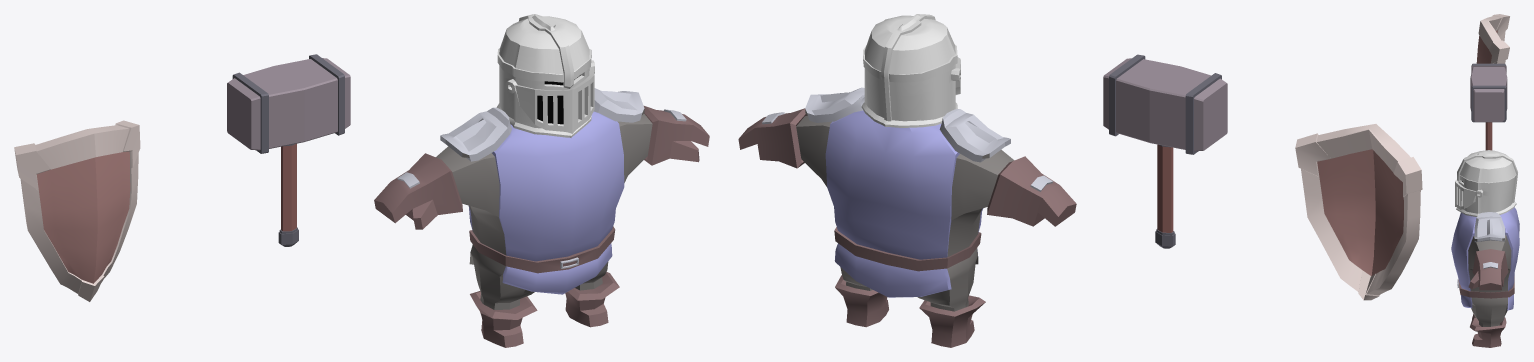
Rendered from player-assets.fbx.
The picture shows the model from 3 angles, left to right: view 1: azimuth 30°, elevation 25°; view 2: azimuth 150°, elevation 25°; view 3: azimuth 270°, elevation 25°; orthographic projection. The views are drawn at different scales.
Parts seen in each view (by area): view 1: Player, player_shield, player_hammer; view 2: Player, player_shield, player_hammer; view 3: Player, player_hammer, player_shield.
Boxes of the visible parts, box(x1,y1,x2,y2) form: Player: box(374, 14, 709, 347); player_shield: box(14, 120, 140, 301); player_hammer: box(227, 54, 350, 246); Player: box(738, 14, 1076, 347); player_shield: box(1295, 124, 1422, 300); player_hammer: box(1103, 54, 1227, 248); Player: box(1451, 150, 1519, 347); player_hammer: box(1470, 63, 1507, 150); player_shield: box(1476, 14, 1509, 63).
Size of the model in its own units: 968 by 428 by 145.
